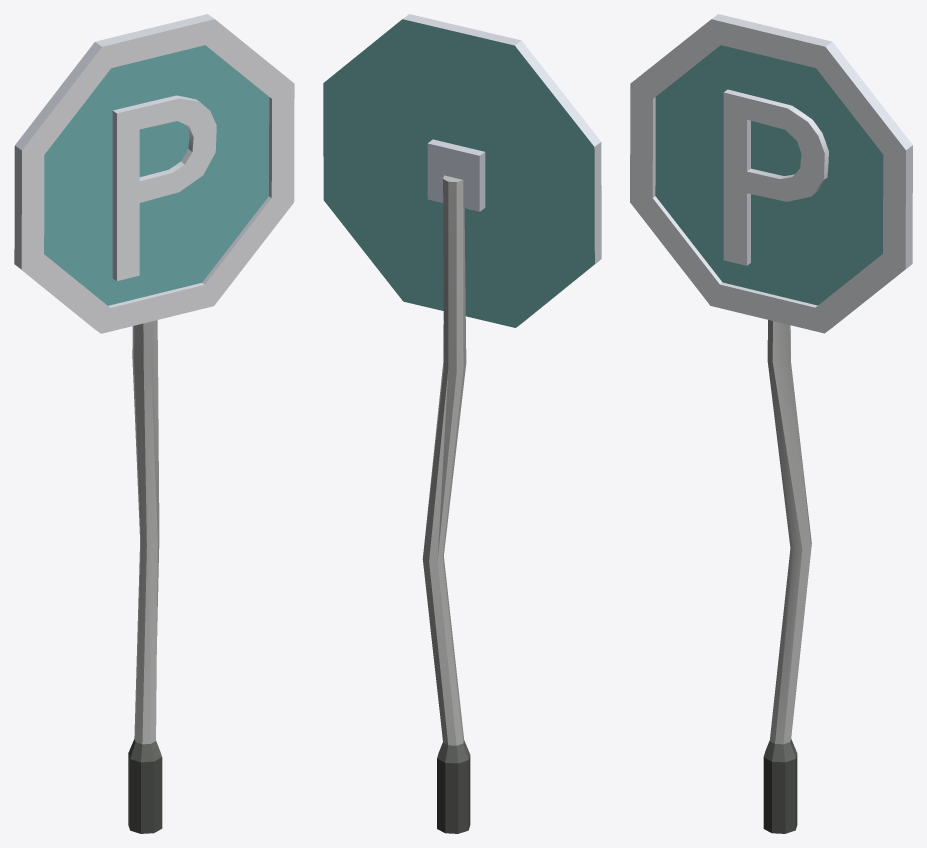
File: Parking_Lot_Sign.glb
3 views of the same model, side by side, from view 1: azimuth 30°, elevation 25°; view 2: azimuth 150°, elevation 25°; view 3: azimuth 330°, elevation 25° (orthographic).
Parts seen in each view (by area): view 1: ParkingLotSign; view 2: ParkingLotSign; view 3: ParkingLotSign.
Boxes of the visible parts, box(x1,y1,x2,y2) form: ParkingLotSign: box(14, 14, 294, 833); ParkingLotSign: box(323, 14, 601, 833); ParkingLotSign: box(630, 14, 912, 833).
Size of what is drawn, in the model's own units: 0.8798 by 2.46 by 0.1571.
1 material, 1 textured.
